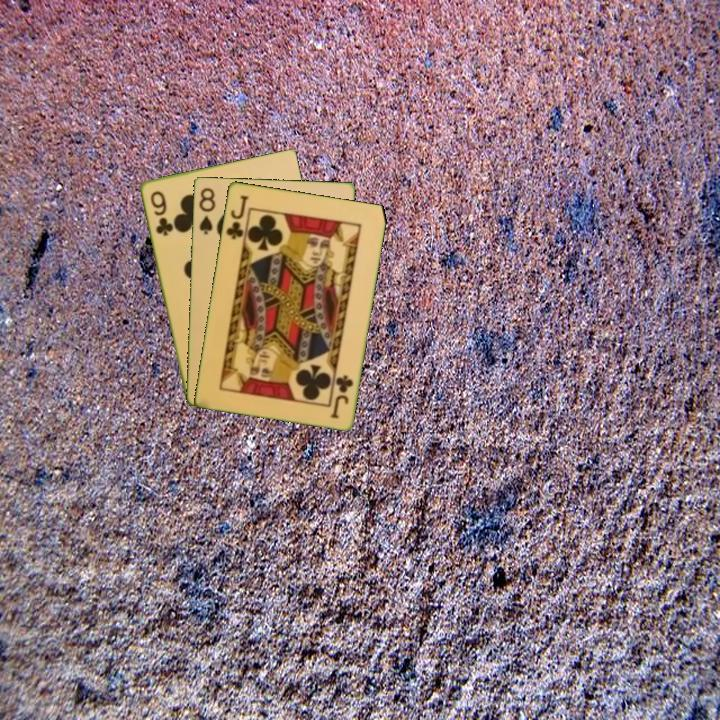8s: (195, 184, 218, 237)
9c: (146, 187, 174, 239)
Jc: (222, 191, 251, 242), (328, 371, 356, 421)
